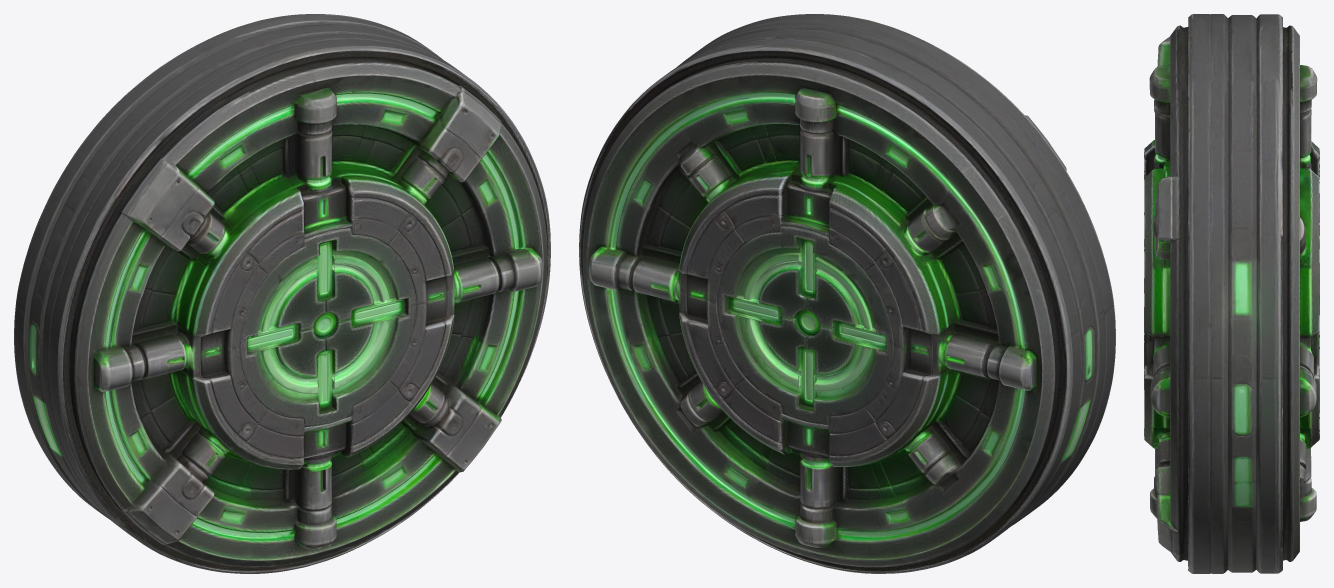
The model's file is main-vault-door.glb.
3 views of the same model, side by side, from view 1: azimuth 30°, elevation 25°; view 2: azimuth 150°, elevation 25°; view 3: azimuth 270°, elevation 25° (orthographic).
Visible parts, largest first — view 1: material; view 2: material; view 3: material.
Boxes of the visible parts, x1,y1,x2,y2 form: material: (14, 14, 550, 573); material: (579, 14, 1115, 573); material: (1144, 14, 1319, 573).
Size of the model in its own units: 1.18 by 1.18 by 0.3708.
1 material, 1 textured.
